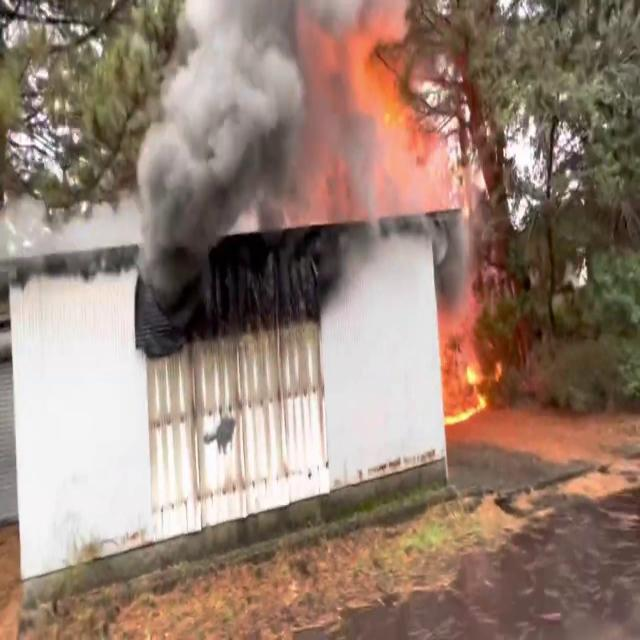Fire: (328, 11, 470, 249)
Smoke: (128, 0, 476, 338)
